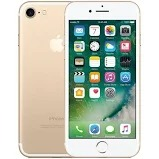iphone: (62, 1, 142, 159)
iphone6: (61, 1, 142, 157)
